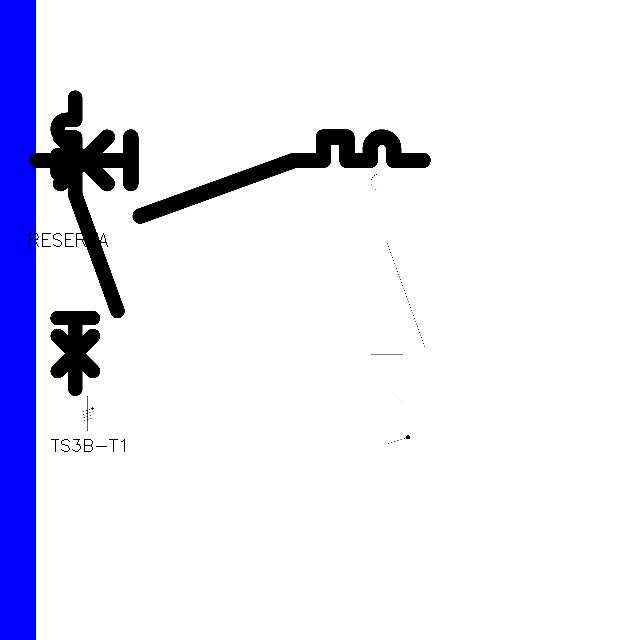interruptor_termomagnetico: (27, 127, 433, 226), (50, 90, 125, 396), (364, 147, 432, 425)
